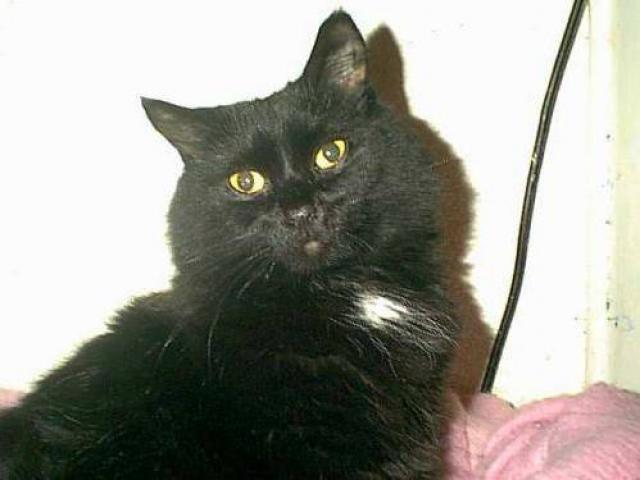cat: (1, 2, 510, 477)
